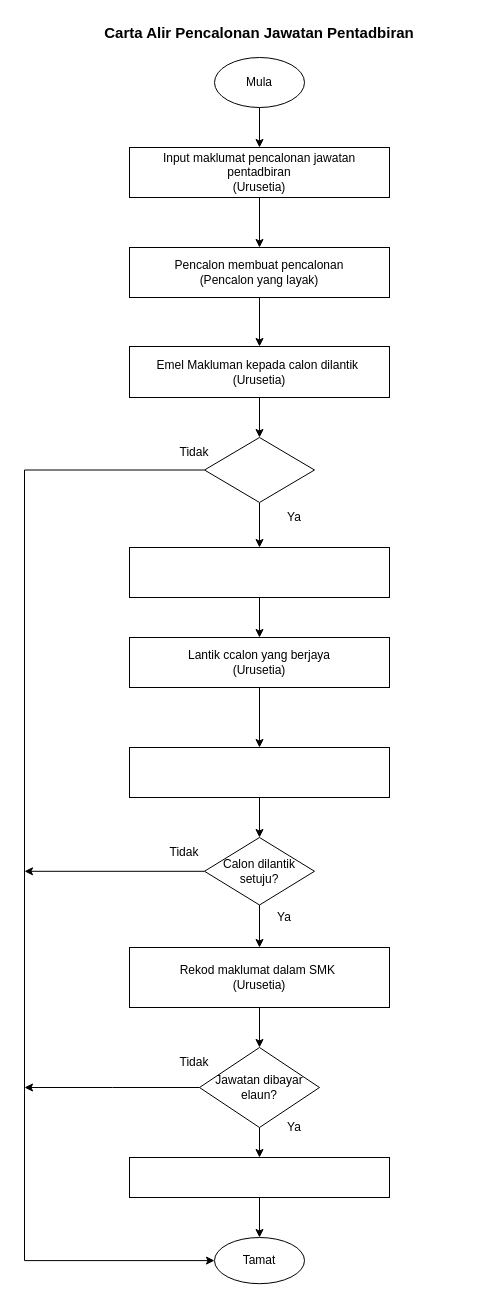
The diagram is 482 pixels wide and 1301 high, and some of its shapes have lost their labels. Here are the shapes that lost their labels. From the top down, the centre of each, then its label:
At point 259,469: "Calon terima?".
At point 259,572: "Input kompetensi (Calon)".
At point 259,772: "Input jawapan pelantikan (Calon)".
At point 259,1177: "Urusan LPG (Jabatan Pendaftar)".
